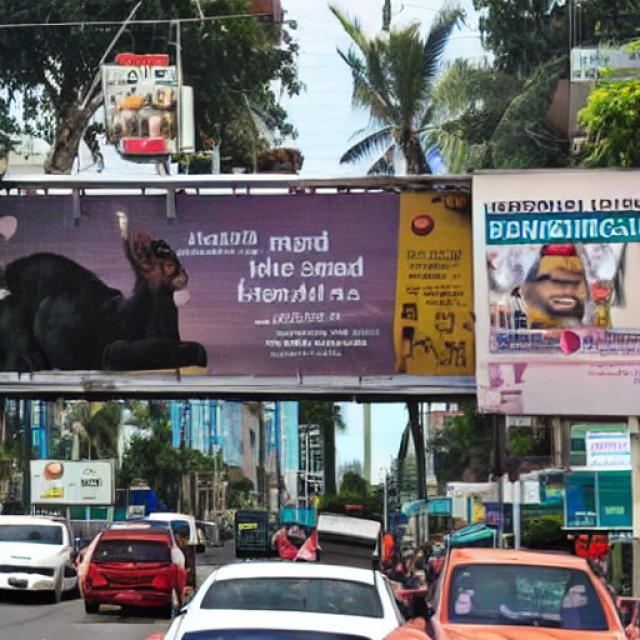Billboard: (2, 172, 474, 398), (477, 168, 640, 421)
